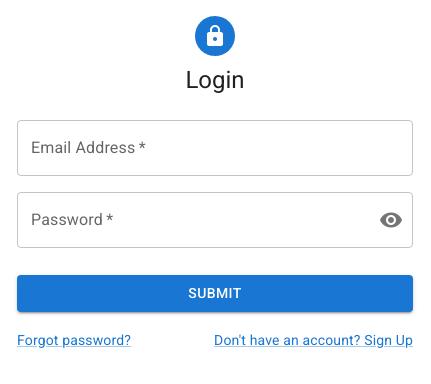
Test: input email address valid
This screenshot has width=431, height=384.
Type "sunligh01@gmail.com" into the field labelled "Email Address *". click: point(215, 148)
box: [17,120,413,176]
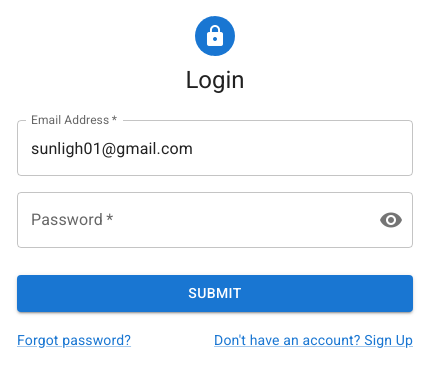
Click the button "Submit". click: point(215, 293)
box: [17,275,413,312]
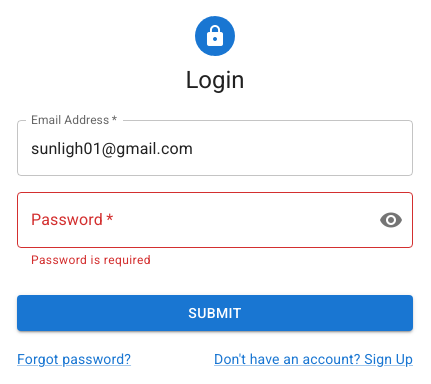
Expected: the text "Password is required" is shown, [31,253,151,267]
